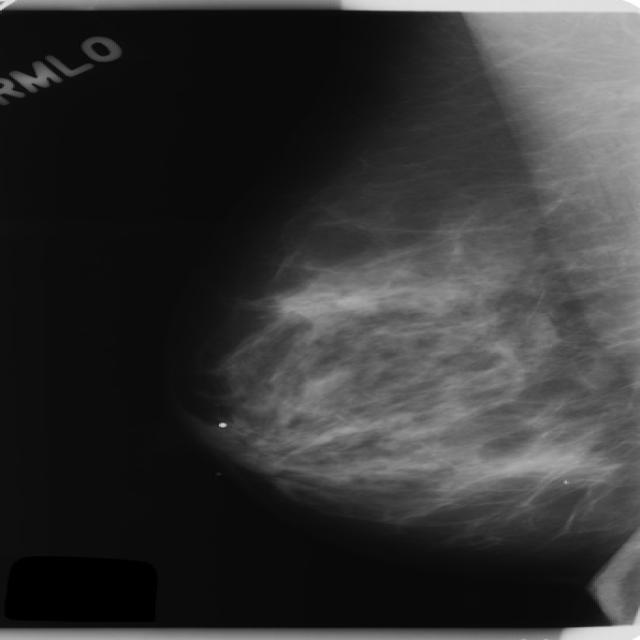tumour: (228, 447, 286, 473)
